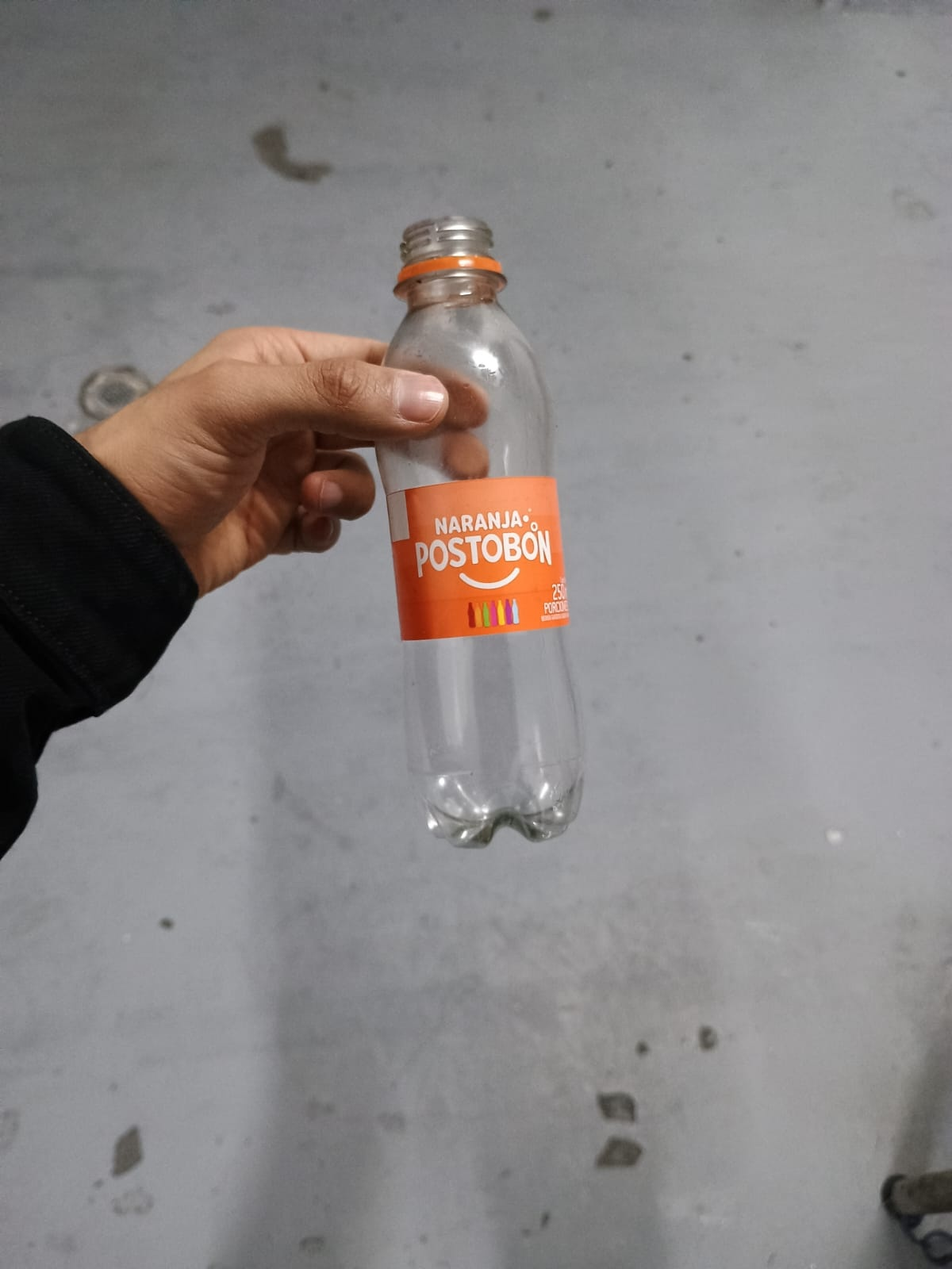Plastico: (370, 218, 588, 846)
